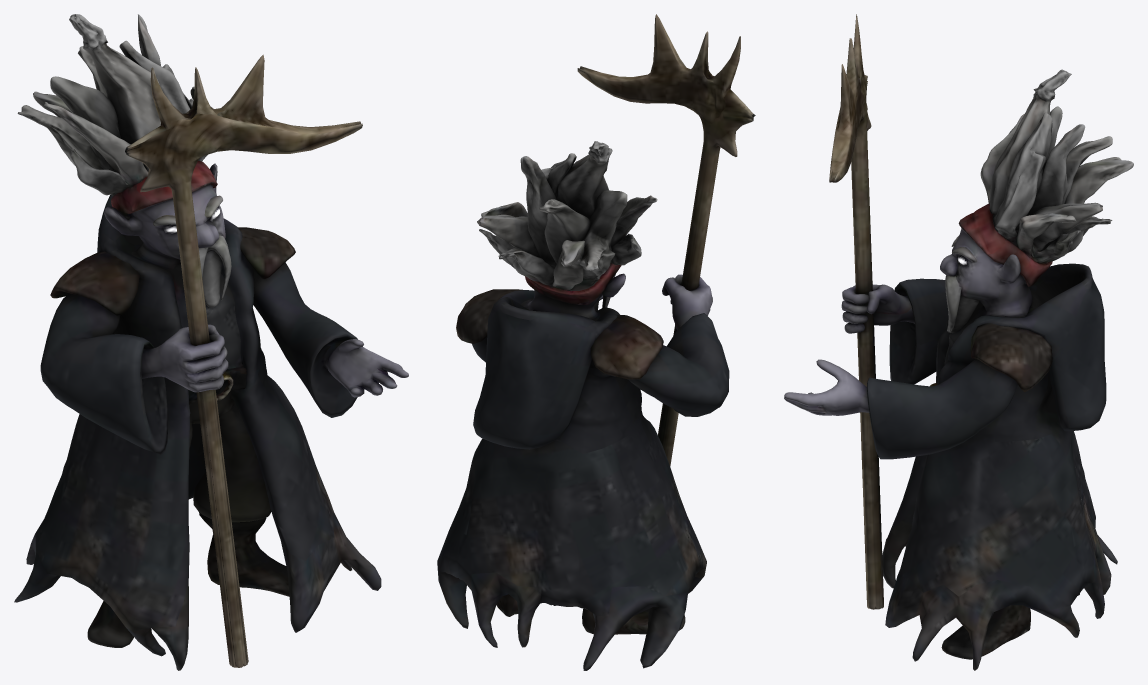
The model's file is MZ4250 - Derro Savant.glb.
3 views of the same model, side by side, from view 1: azimuth 30°, elevation 25°; view 2: azimuth 150°, elevation 25°; view 3: azimuth 270°, elevation 25° (orthographic). The views are drawn at different scales.
Visible parts, largest first — view 1: Body.002; view 2: Body.002; view 3: Body.002.
Boxes of the visible parts, x1,y1,x2,y2 form: Body.002: [14, 14, 408, 670]; Body.002: [437, 14, 755, 670]; Body.002: [784, 14, 1133, 670].
Size of the model in its own units: 0.3912 by 0.7598 by 0.4344.
Materials: 1 (1 with a texture image).
